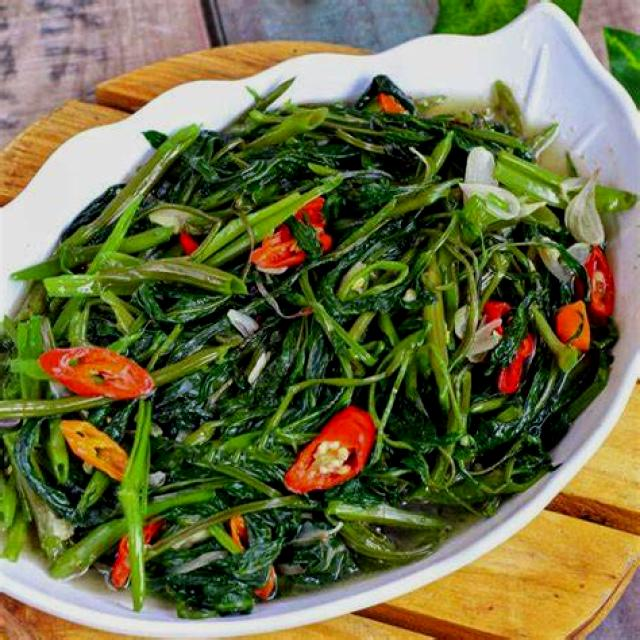tumis kangkung: (0, 76, 636, 640)
